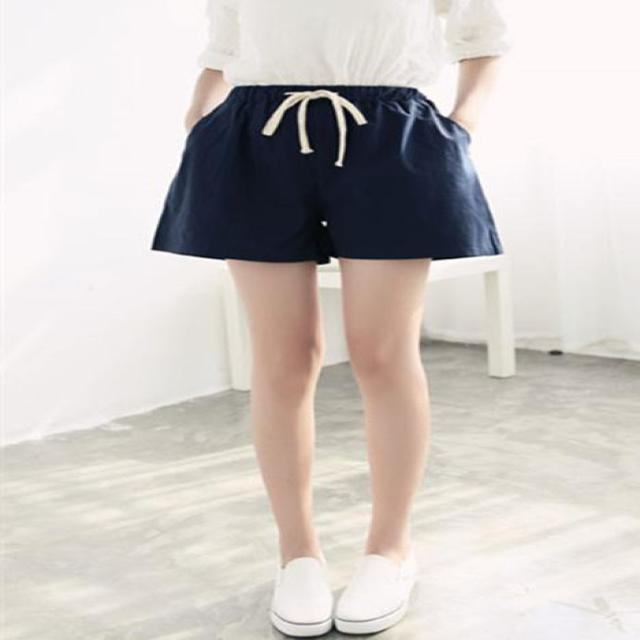long sleeve top: (198, 1, 511, 88)
shorts: (155, 88, 503, 262)
